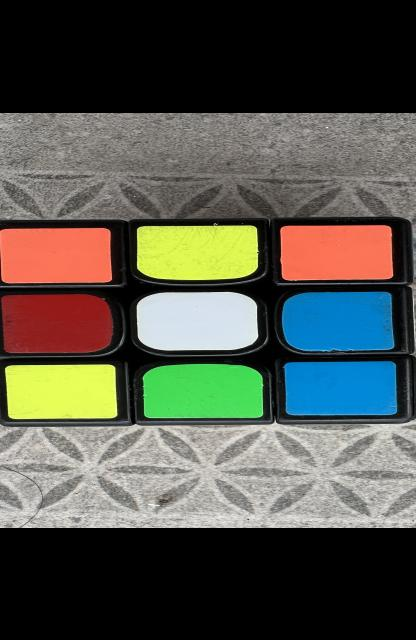Blue: (281, 291, 395, 350), (285, 360, 396, 414)
Green: (143, 363, 263, 418)
Orange: (0, 227, 113, 283), (280, 224, 393, 279)
Red: (1, 293, 113, 352)
White: (136, 291, 258, 350)
Yellow: (136, 224, 258, 279), (5, 363, 116, 418)
